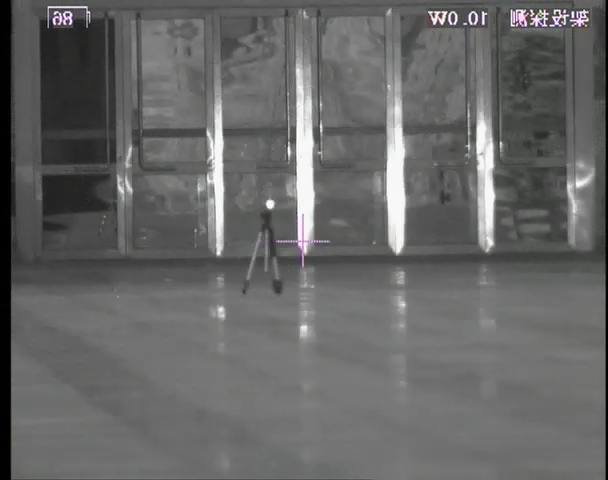my: (264, 199, 275, 211)
